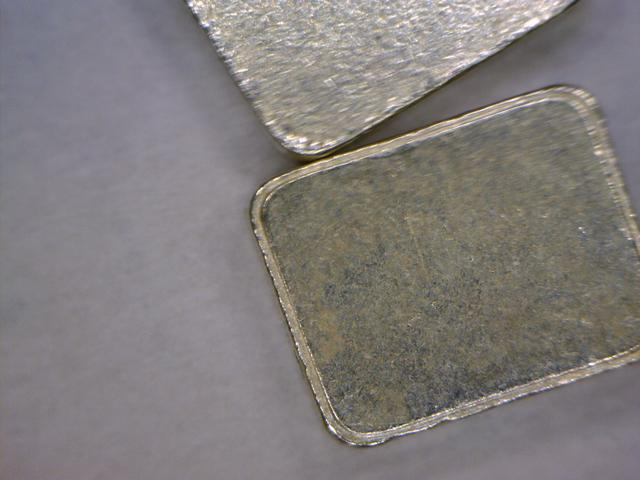nok: (242, 75, 640, 452)
